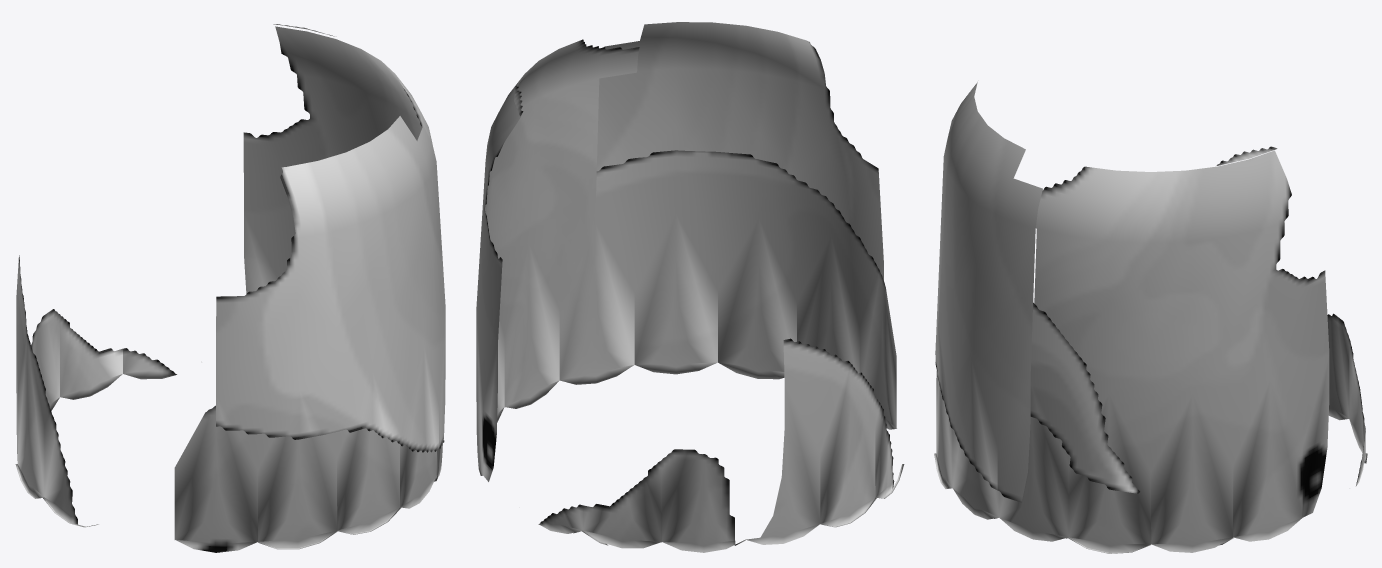
The model's file is Ghost.fbx.
The picture shows the model from 3 angles, left to right: view 1: azimuth 30°, elevation 25°; view 2: azimuth 150°, elevation 25°; view 3: azimuth 270°, elevation 25°; orthographic projection.
Parts seen in each view (by area): view 1: GhostTemp; view 2: GhostTemp; view 3: GhostTemp.
Part boxes in pixels (left/top/right/bottom): GhostTemp: left=15, top=24, right=445, bottom=552; GhostTemp: left=476, top=22, right=904, bottom=552; GhostTemp: left=934, top=82, right=1367, bottom=553.
Bounding box in the file's own units: 200 × 206 × 200.
